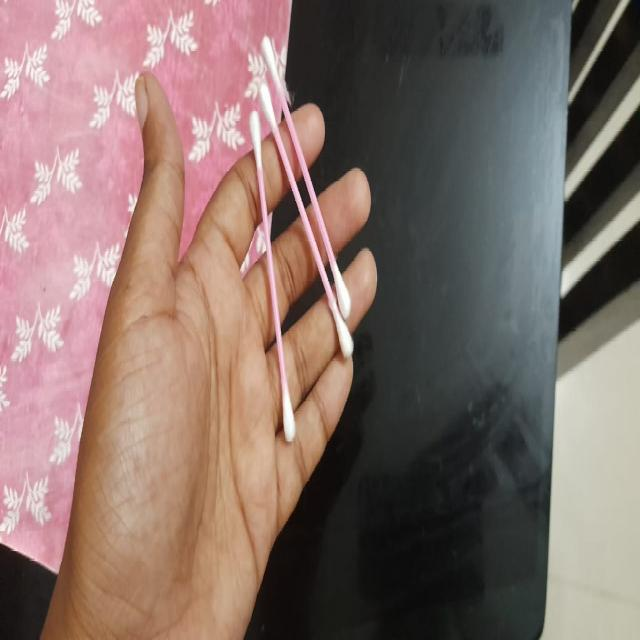Earbud - Non Recyclable: (241, 33, 356, 446)
